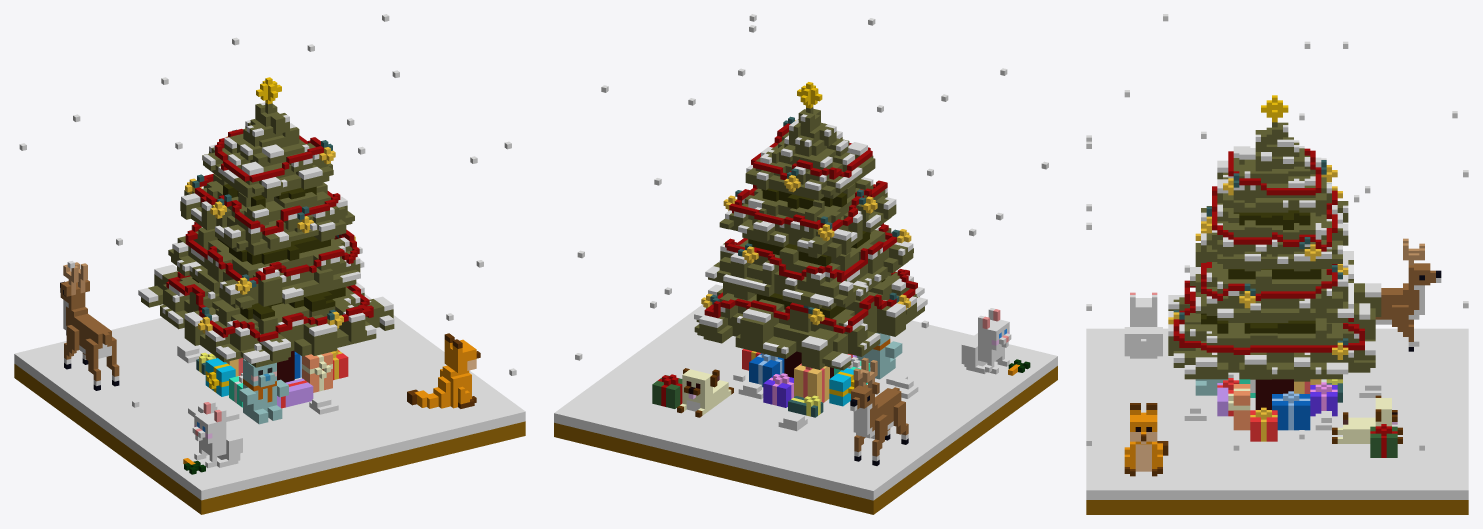
Rendered from AnomxmasScene.glb.
3 renders of one model, left to right at view 1: azimuth 30°, elevation 25°; view 2: azimuth 150°, elevation 25°; view 3: azimuth 270°, elevation 25°, orthographic. The views are drawn at different scales.
Parts seen in each view (by area): view 1: AnomTree:Mesh; view 2: AnomTree:Mesh; view 3: AnomTree:Mesh.
Part boxes in pixels (x1,y1,x2,y2): AnomTree:Mesh: (14, 14, 525, 514); AnomTree:Mesh: (554, 14, 1057, 514); AnomTree:Mesh: (1086, 14, 1468, 514).
Bounding box in the file's own units: 3.75 × 3.75 × 3.75.
Materials: 1 (1 with a texture image).
